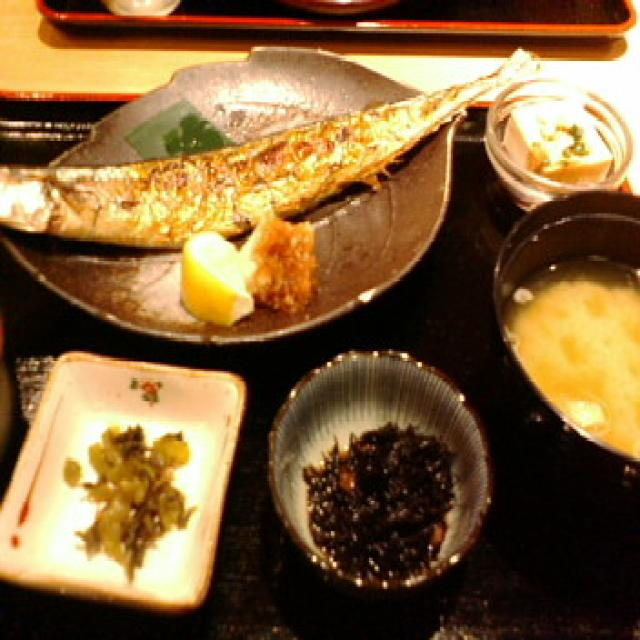熟制海鲜: (0, 88, 525, 255)
